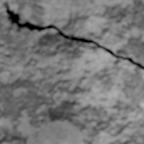brick: (0, 0, 143, 143), (7, 0, 143, 64)
crack: (1, 0, 143, 70)
